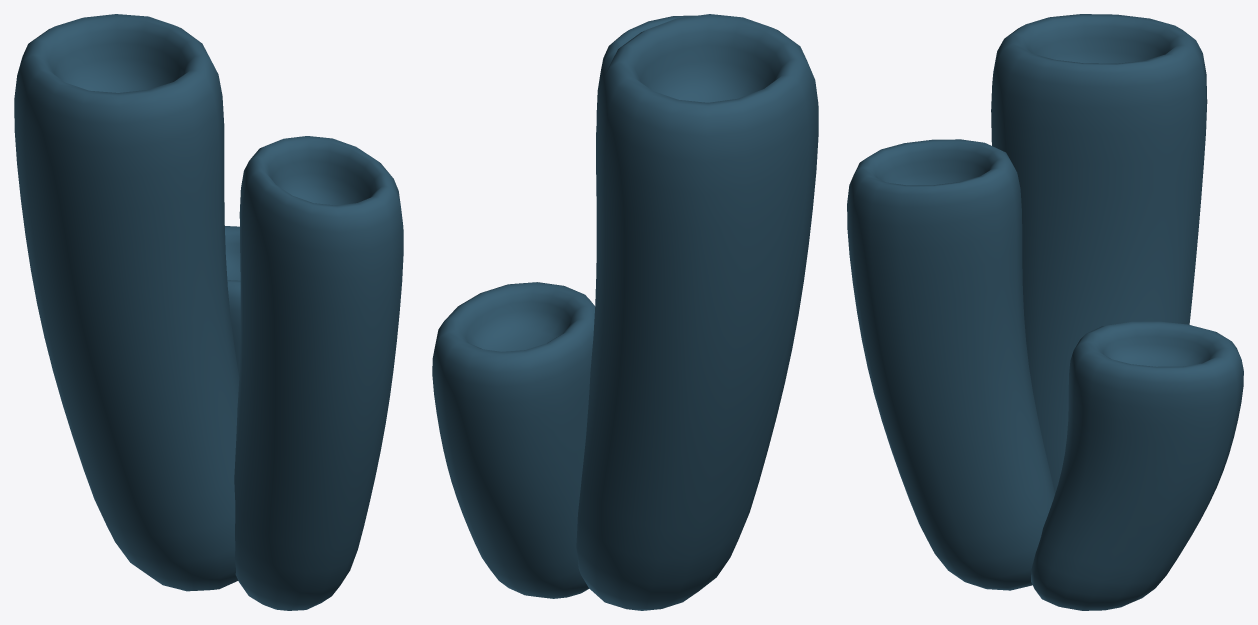
The model's file is coral13.fbx.
3 views of the same model, side by side, from view 1: azimuth 30°, elevation 25°; view 2: azimuth 150°, elevation 25°; view 3: azimuth 270°, elevation 25° (orthographic). The views are drawn at different scales.
Visible parts, largest first — view 1: soft coral 003; view 2: soft coral 003; view 3: soft coral 003.
Boxes of the visible parts, x1,y1,x2,y2 form: soft coral 003: (14,14,403,610); soft coral 003: (432,14,818,610); soft coral 003: (847,14,1243,610).
Bounding box in the file's own units: 457 × 803 × 574.
